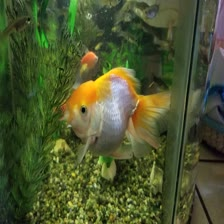Cuezo: (57, 75, 174, 162)
